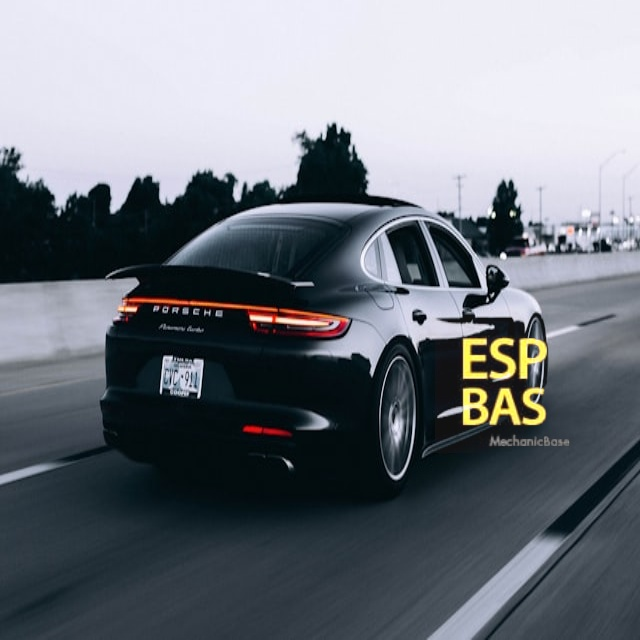symbol: (435, 313, 575, 453)
